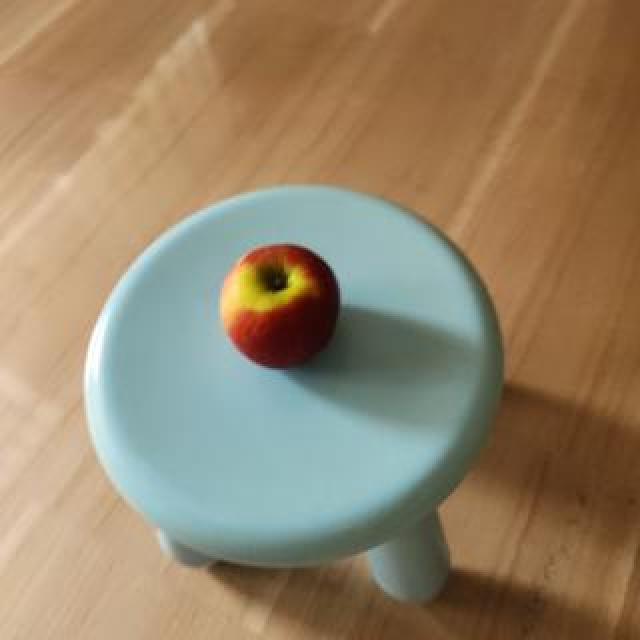Fresh Apple: (208, 248, 336, 366)
